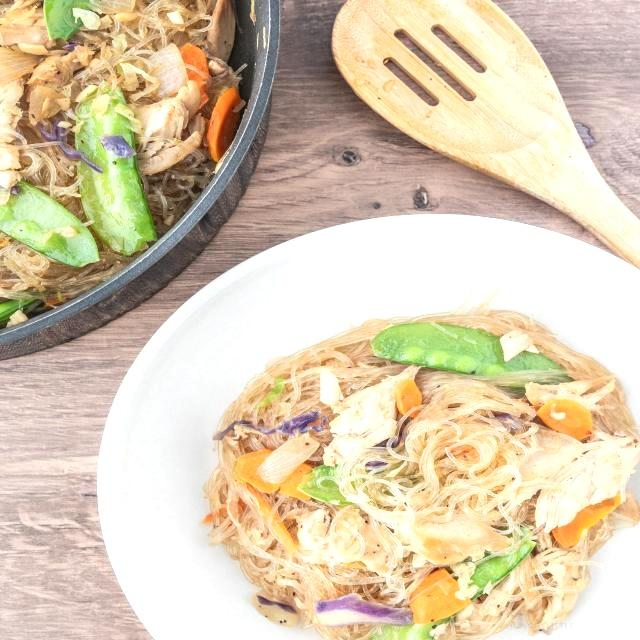pancit bihon: (208, 311, 632, 639), (0, 0, 229, 332)
